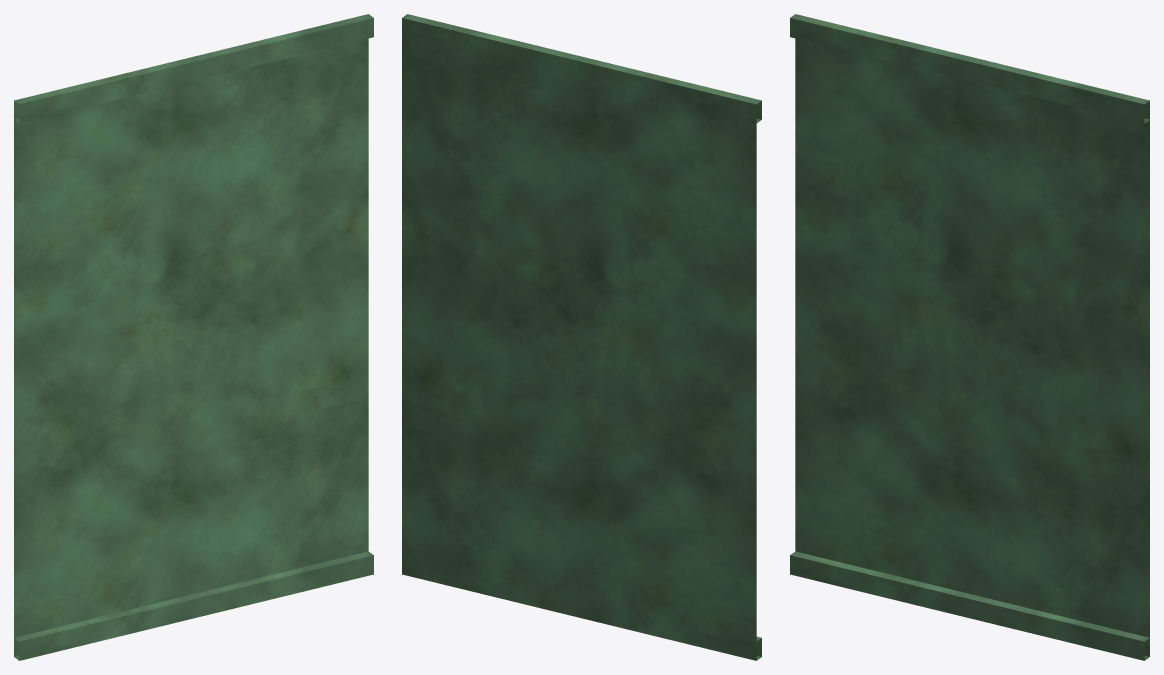
Rendered from Wall_LowerDeck_Blank.FBX.
3 views of the same model, side by side, from view 1: azimuth 30°, elevation 25°; view 2: azimuth 150°, elevation 25°; view 3: azimuth 330°, elevation 25° (orthographic).
Parts seen in each view (by area): view 1: Plane021; view 2: Plane021; view 3: Plane021.
Part boxes in pixels (x1,y1,x2,y2): Plane021: (14,14,373,660); Plane021: (402,14,761,660); Plane021: (790,14,1149,660).
Bounding box in the file's own units: 200 × 300 × 5.25.
